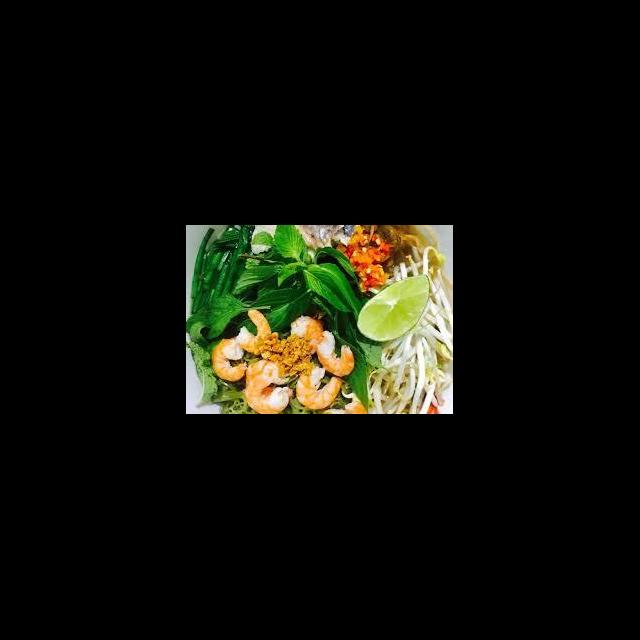tom: (244, 358, 294, 414), (294, 362, 344, 412), (314, 328, 358, 381), (234, 306, 276, 358), (210, 334, 252, 386), (282, 314, 326, 359)
